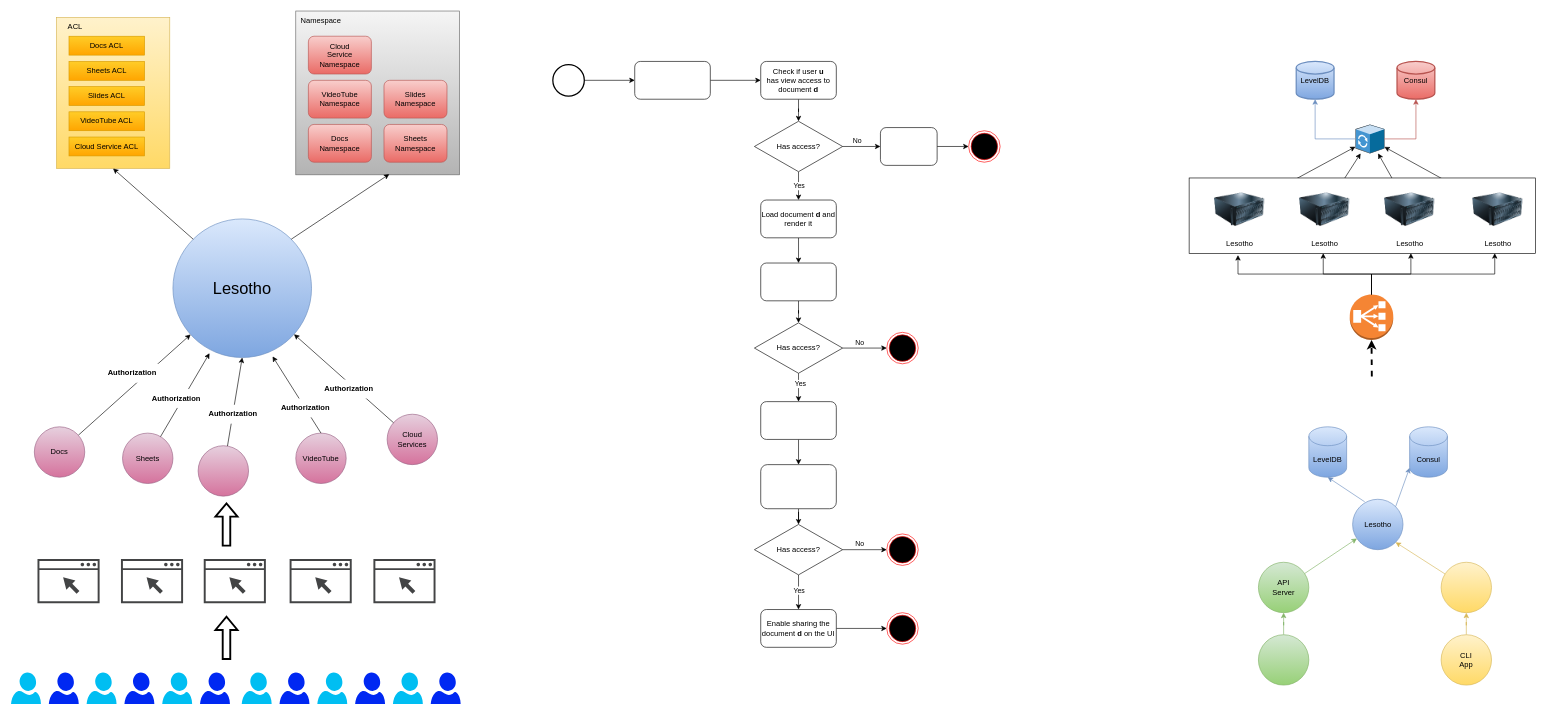
Image size: 1547x715. Some labels were removed from this diagram. The shapes that lost their labels are listed below. From the top down, each one's centre as x and y in pixels, then its label:
At [672,80]: "User u Opens Document d".
At [908,146]: "Return user to start page".
At [798,281]: "Check if user u has edit access to document d".
At [798,420]: "Enable editing controls on the UI".
At [223,470]: "Slides".
At [798,486]: "Check if user u has ownership access to document d".
At [1466,587]: "API2 Server".
At [1283,659]: "Web App".
